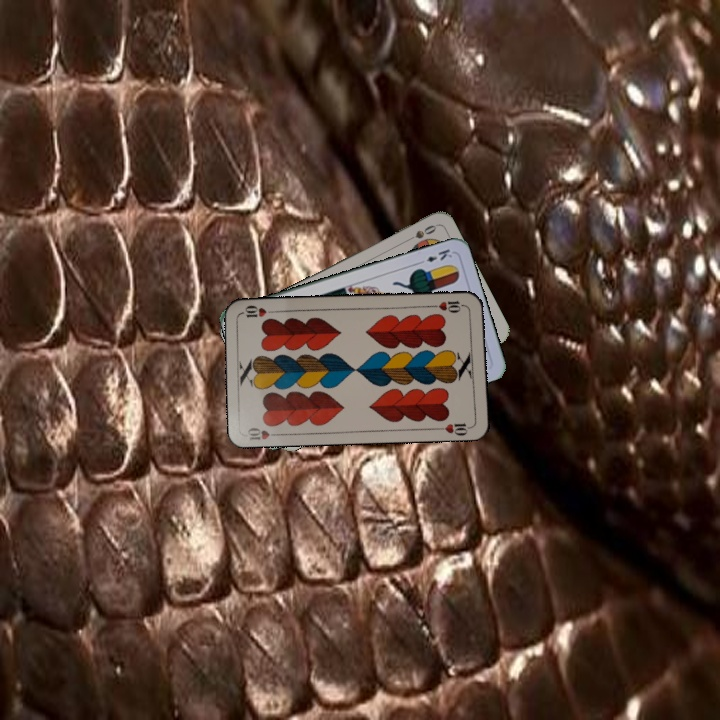EK: (414, 245, 455, 267)
H10: (428, 296, 468, 315), (243, 424, 284, 442)
SO: (401, 221, 439, 245)
